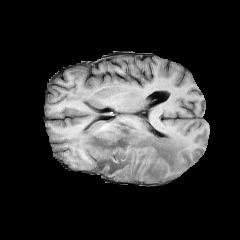glioma: (72, 118, 187, 181)
